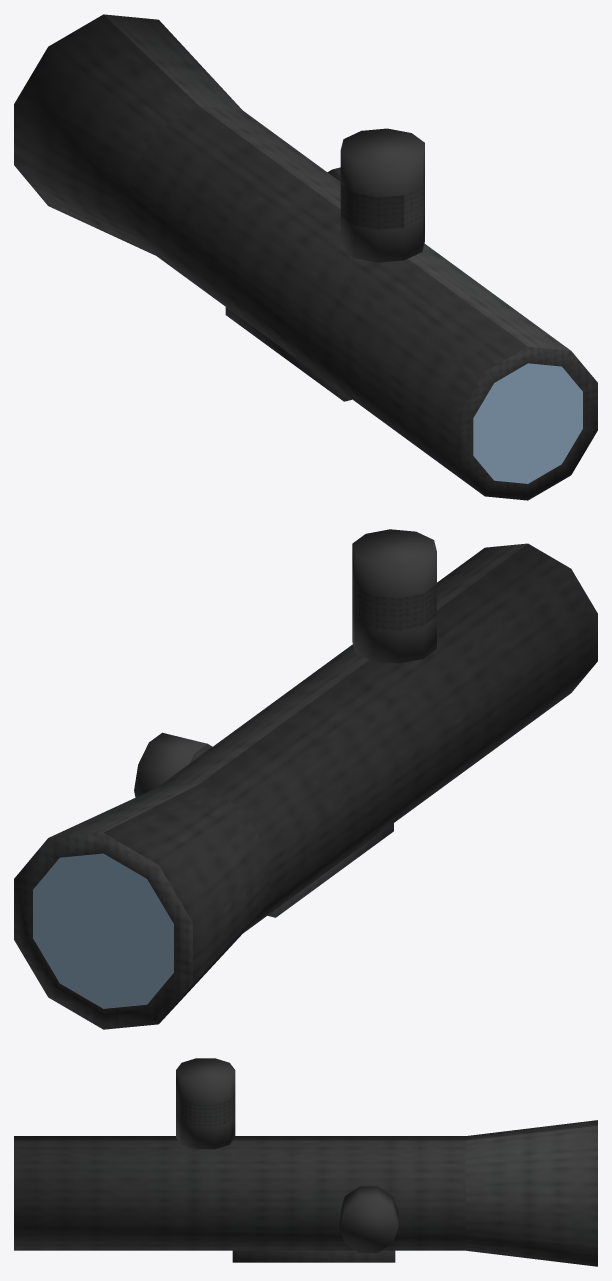
Rendered from AK4XScope_Ground.fbx.
3 renders of one model, top to bottom at view 1: azimuth 30°, elevation 25°; view 2: azimuth 150°, elevation 25°; view 3: azimuth 270°, elevation 25°, orthographic. The views are drawn at different scales.
Parts seen in each view (by area): view 1: AK4XScope_Ground.X__.0002_.0004; view 2: AK4XScope_Ground.X__.0002_.0004; view 3: AK4XScope_Ground.X__.0002_.0004.
Part boxes in pixels (x1,y1,x2,y2): AK4XScope_Ground.X__.0002_.0004: [14, 14, 597, 500]; AK4XScope_Ground.X__.0002_.0004: [14, 529, 597, 1029]; AK4XScope_Ground.X__.0002_.0004: [14, 1058, 597, 1266].
Bounding box in the file's own units: 0.0292 × 0.0376 × 0.1054.
